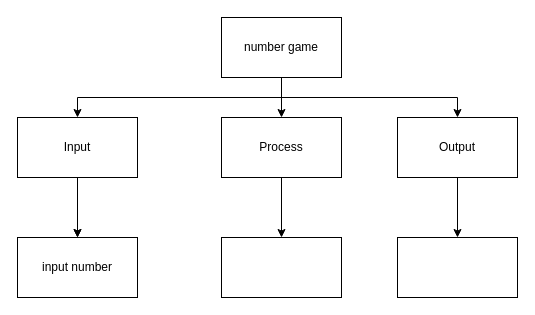
Some shapes in this 535 by 315 pixel diagram are drawn without their labels. Each missing label, with the centre of its shape:
is number = month: the point at 281,267
show answer: the point at 457,267
